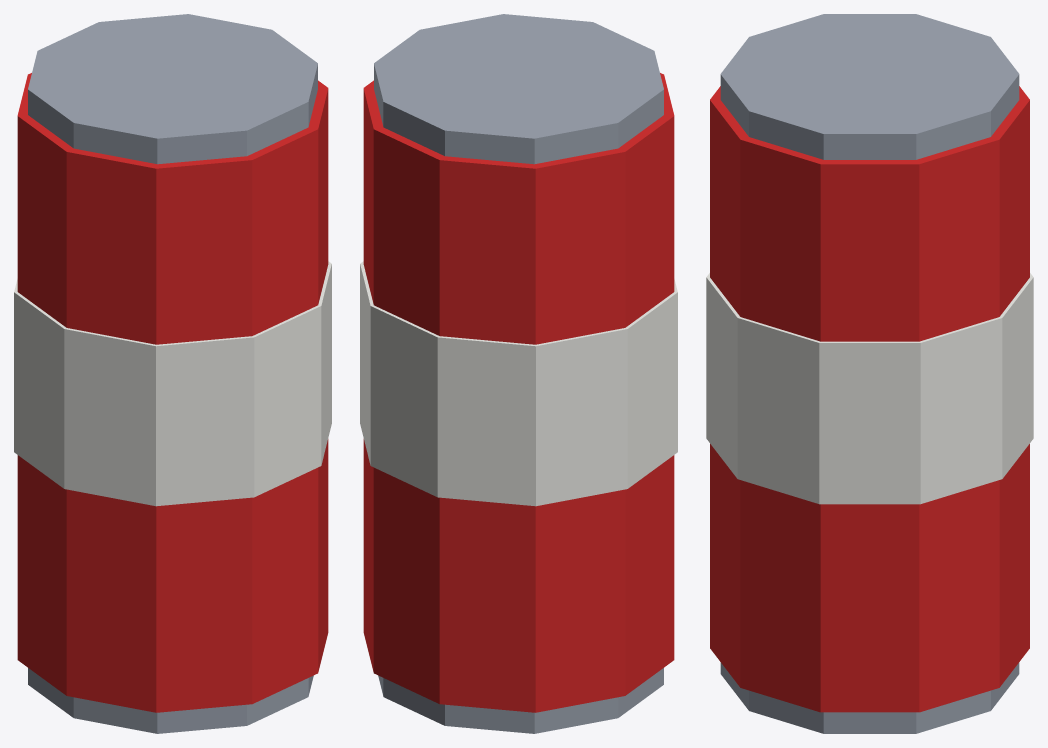
The model's file is Trash_Can.fbx.
3 renders of one model, left to right at view 1: azimuth 30°, elevation 25°; view 2: azimuth 150°, elevation 25°; view 3: azimuth 270°, elevation 25°, orthographic.
Visible parts, largest first — view 1: Trash_Can; view 2: Trash_Can; view 3: Trash_Can.
Part boxes in pixels (bbox=[...]): Trash_Can: bbox=[14, 14, 331, 733]; Trash_Can: bbox=[360, 14, 677, 733]; Trash_Can: bbox=[706, 14, 1033, 733].
Bounding box in the file's own units: 0.0875 × 0.186 × 0.092.
